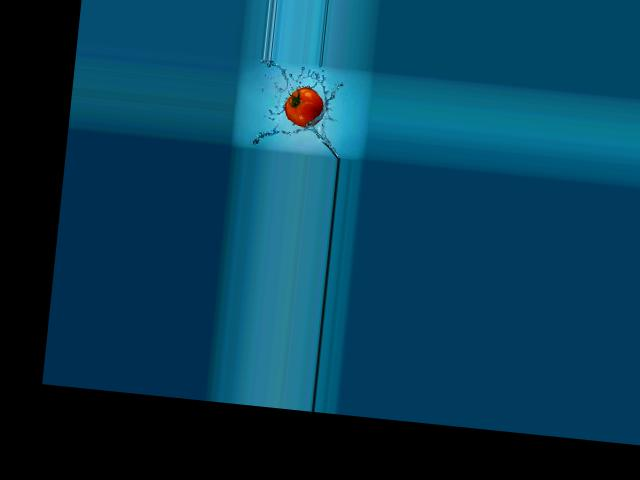tomato: (283, 85, 325, 128)
